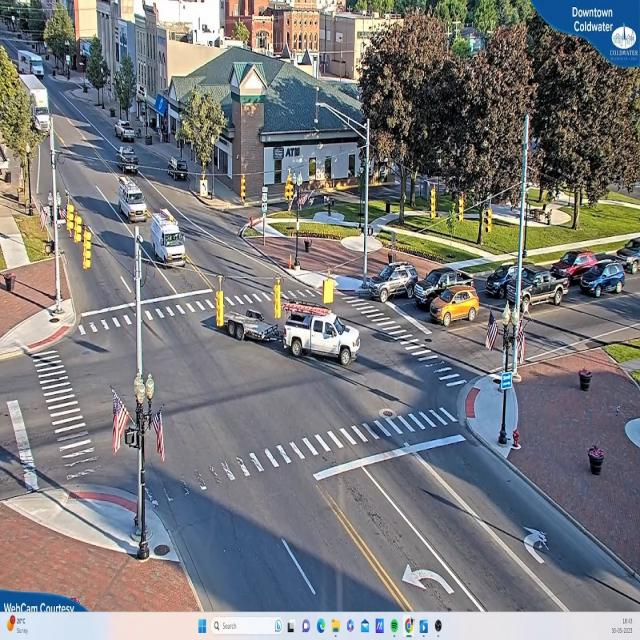car: (284, 306, 361, 366), (488, 266, 570, 310), (411, 266, 476, 307), (431, 290, 480, 326), (371, 265, 418, 302), (580, 263, 628, 297), (115, 178, 148, 222), (551, 252, 599, 280), (117, 121, 137, 144)
